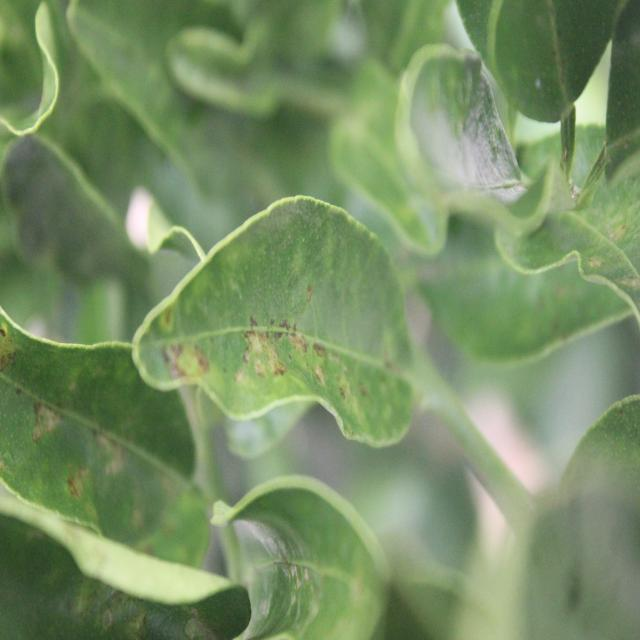canker: (135, 271, 414, 436), (0, 311, 177, 538)
